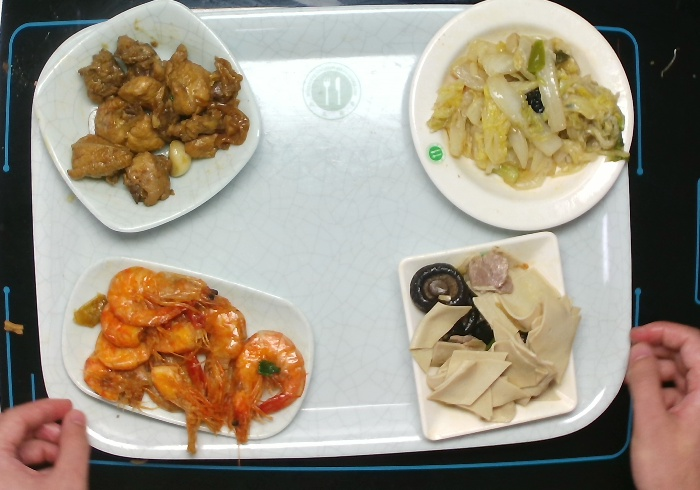WCQzf-Bai_Se_Si_Fang_Die: (396, 228, 585, 442)
WCQzf-Da_Si_Fang_Die: (27, 1, 267, 238)
WCQzf-Kuan_Bian_Yuan_Die: (406, 1, 640, 238)
WCQzf-Tuo_Yuan_Pan: (57, 254, 318, 443)
